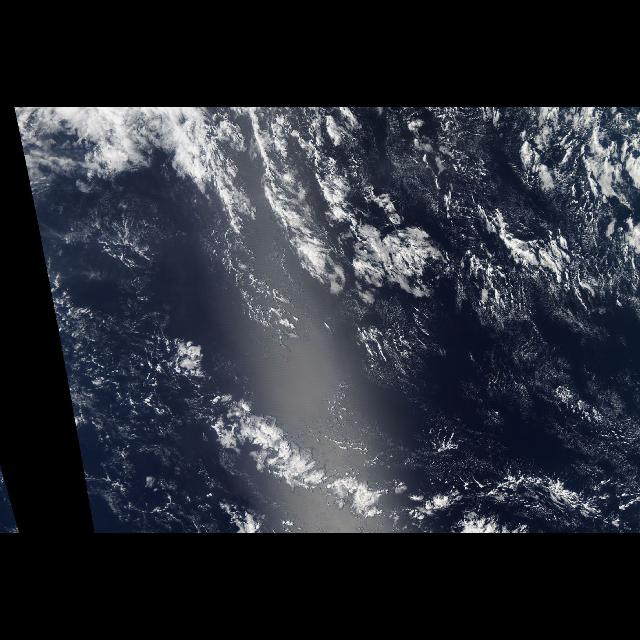Fish: (159, 362, 637, 532), (168, 108, 456, 334)
Gravel: (46, 202, 192, 526)
Sugar: (472, 318, 640, 504), (374, 114, 600, 234)
